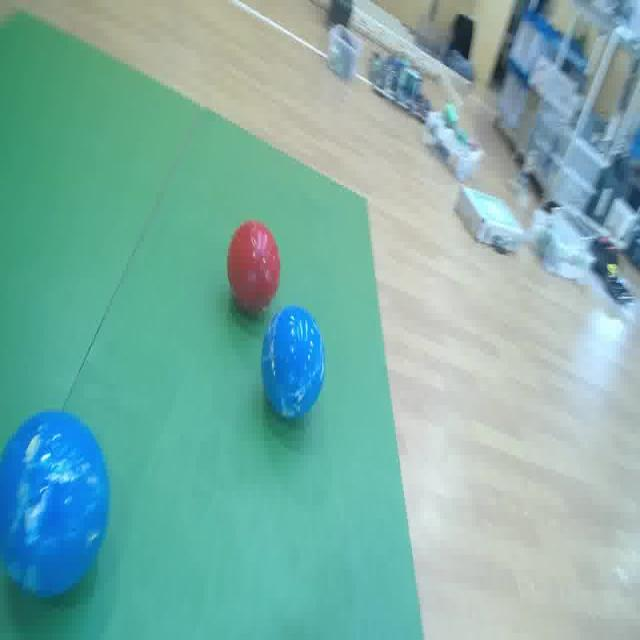blue_ball: (0, 401, 118, 607), (258, 303, 328, 430)
red_ball: (227, 211, 285, 314)
